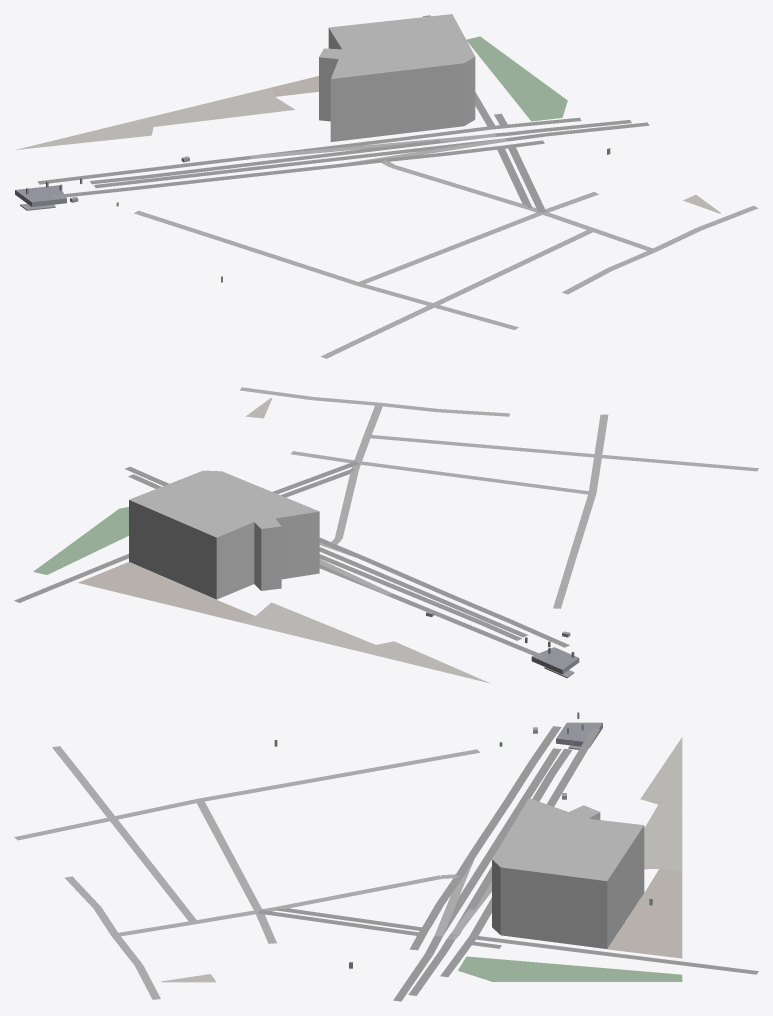
3 views of the same model, one above another, from view 1: azimuth 30°, elevation 25°; view 2: azimuth 150°, elevation 25°; view 3: azimuth 270°, elevation 25° (orthographic). The views are drawn at different scales.
Size of the model in its own units: 537 by 75.63 by 596.
